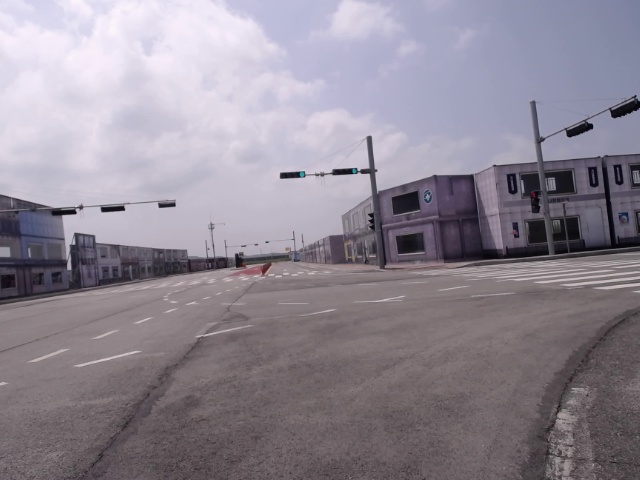straight_green_4: (280, 170, 306, 179), (332, 166, 358, 175)
